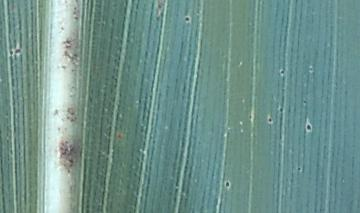tarspot: (263, 113, 275, 126), (182, 13, 193, 26), (222, 178, 232, 191), (14, 45, 24, 56), (277, 66, 286, 78), (245, 112, 255, 122), (305, 122, 313, 134), (295, 164, 304, 174), (278, 104, 286, 115), (8, 47, 13, 60)
